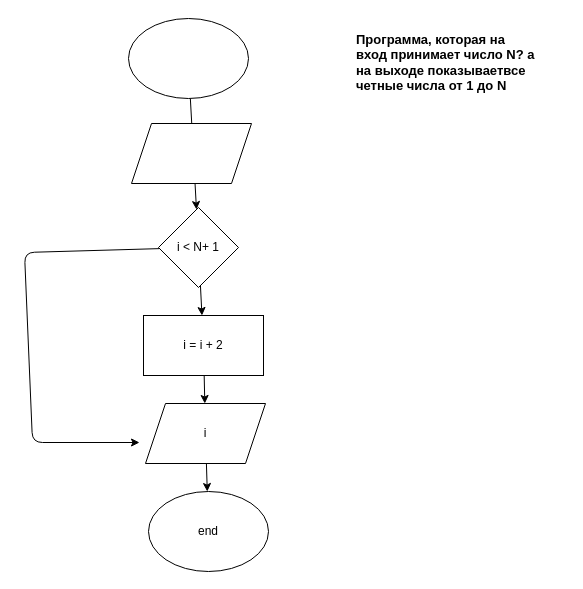
The diagram is 583 pixels wide and 589 high, and some of its shapes have lost their labels. Each missing label, with the centre of its shape:
"N = 10 i = 2" goes at [191,153].
"start" goes at [188,58].
